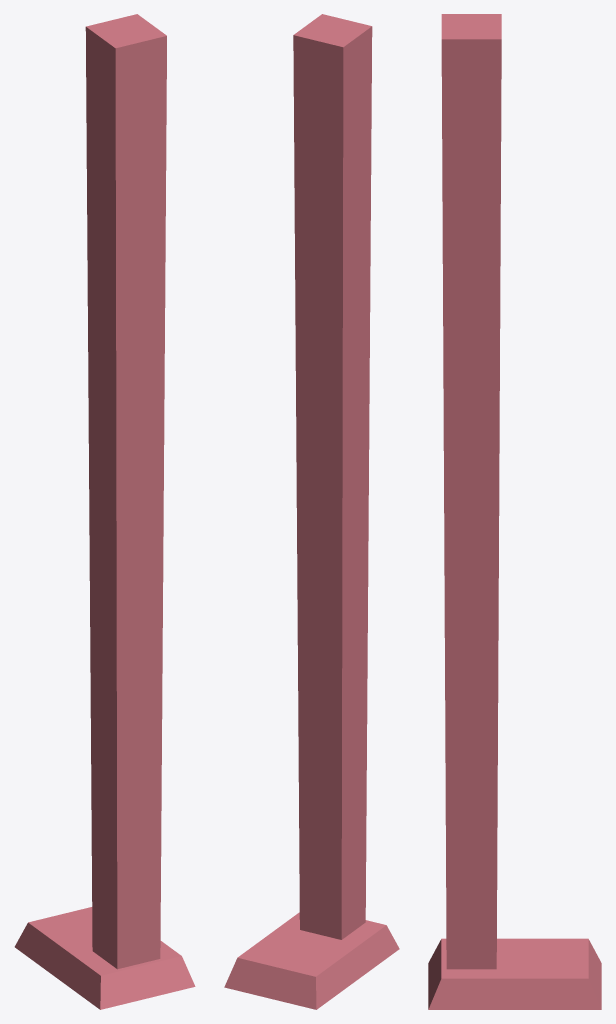
The model's file is animal_flamingo_leg.obj.
3 views of the same model, side by side, from view 1: azimuth 30°, elevation 25°; view 2: azimuth 150°, elevation 25°; view 3: azimuth 270°, elevation 25° (orthographic). The views are drawn at different scales.
Parts seen in each view (by area): view 1: animal_flamingo_leg; view 2: animal_flamingo_leg; view 3: animal_flamingo_leg.
Part boxes in pixels (x1=…): animal_flamingo_leg: x1=14, y1=14, x2=195, y2=1009; animal_flamingo_leg: x1=224, y1=14, x2=399, y2=1009; animal_flamingo_leg: x1=428, y1=14, x2=601, y2=1009.
Size of the model in its own units: 0.0576 by 0.55 by 0.09.
